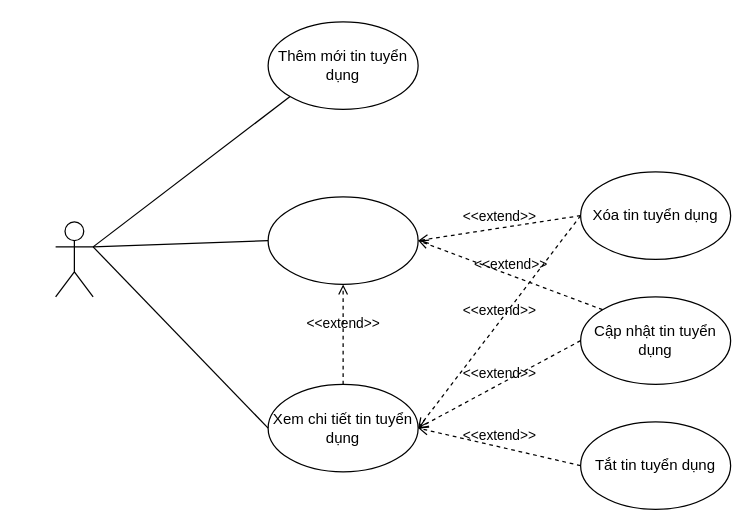
Image size: 753x531. Some labels were removed from this diagram. Here are the shapes that lost their labels. From the top down, the centre of each, then its label:
(73,259): Nhà tuyển dụng
(342,240): Xem danh sách tin tuyển dụng
